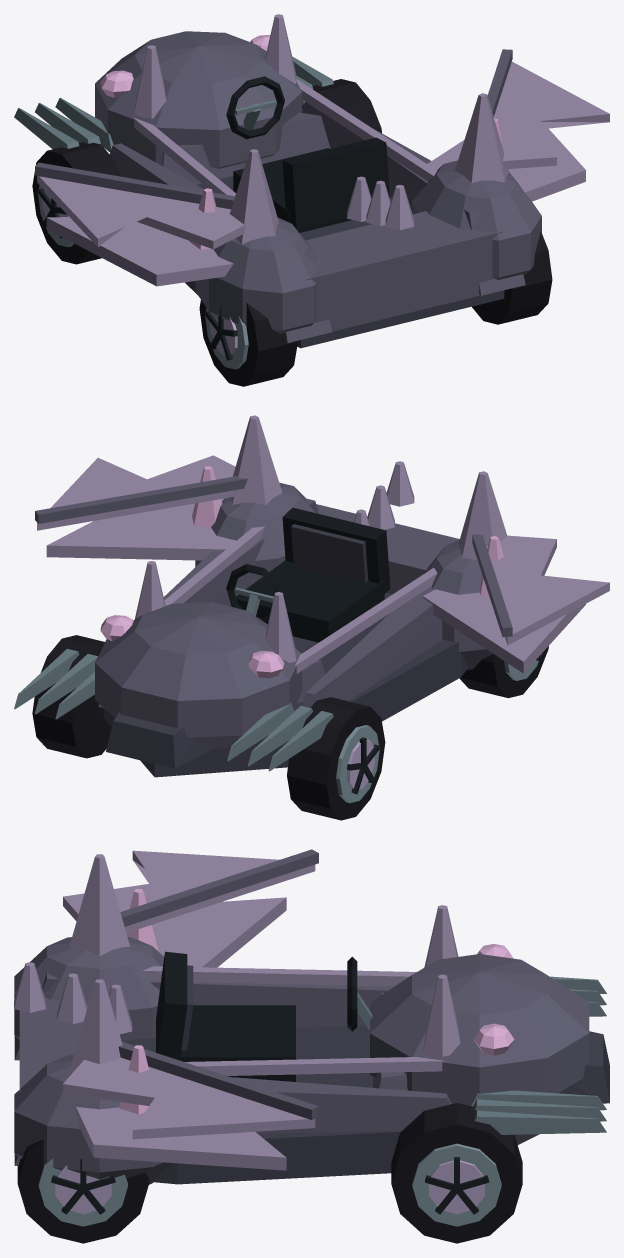
The model's file is kart.glb.
3 views of the same model, one above another, from view 1: azimuth 30°, elevation 25°; view 2: azimuth 150°, elevation 25°; view 3: azimuth 270°, elevation 25° (orthographic). The views are drawn at different scales.
Parts seen in each view (by area): view 1: identity-dragon-dragon-sculpted-prow-and-haunches, identity-dragon-motif-dragon-wings, identity-dragon-driver-cockpit, identity-dragon-motif-crystals, wheel-rear-left, identity-dragon-motif-claws, wheel-front-left, wheel-rear-right, wheel-front-right; view 2: identity-dragon-dragon-sculpted-prow-and-haunches, identity-dragon-motif-dragon-wings, identity-dragon-driver-cockpit, wheel-front-left, identity-dragon-motif-claws, identity-dragon-motif-crystals, wheel-front-right, wheel-rear-left; view 3: identity-dragon-dragon-sculpted-prow-and-haunches, identity-dragon-motif-dragon-wings, wheel-front-right, identity-dragon-driver-cockpit, wheel-rear-right, identity-dragon-motif-crystals, identity-dragon-motif-claws.
Part boxes in pixels (<box>): identity-dragon-dragon-sculpted-prow-and-haunches: <box>46,14,585,348</box>; identity-dragon-motif-dragon-wings: <box>35,49,609,249</box>; identity-dragon-driver-cockpit: <box>226,76,389,232</box>; identity-dragon-motif-crystals: <box>189,93,510,249</box>; wheel-rear-left: <box>199,300,297,386</box>; identity-dragon-motif-claws: <box>14,56,333,152</box>; wheel-front-left: <box>32,142,121,264</box>; wheel-rear-right: <box>472,231,552,324</box>; wheel-front-right: <box>302,79,381,133</box>; identity-dragon-dragon-sculpted-prow-and-haunches: <box>46,461,585,777</box>; identity-dragon-motif-dragon-wings: <box>35,455,609,645</box>; identity-dragon-driver-cockpit: <box>226,507,390,642</box>; wheel-front-left: <box>287,697,385,820</box>; identity-dragon-motif-claws: <box>14,648,333,771</box>; identity-dragon-motif-crystals: <box>192,415,507,596</box>; wheel-front-right: <box>32,635,111,758</box>; wheel-rear-left: <box>459,646,548,698</box>; identity-dragon-dragon-sculpted-prow-and-haunches: <box>14,897,609,1184</box>; identity-dragon-motif-dragon-wings: <box>63,849,318,1139</box>; wheel-front-right: <box>391,1103,522,1243</box>; identity-dragon-driver-cockpit: <box>156,951,372,1081</box>; wheel-rear-right: <box>17,1139,148,1243</box>; identity-dragon-motif-crystals: <box>69,854,158,1114</box>; identity-dragon-motif-claws: <box>470,976,606,1134</box>.
Size of the model in its own units: 3.22 by 1.32 by 2.9.
